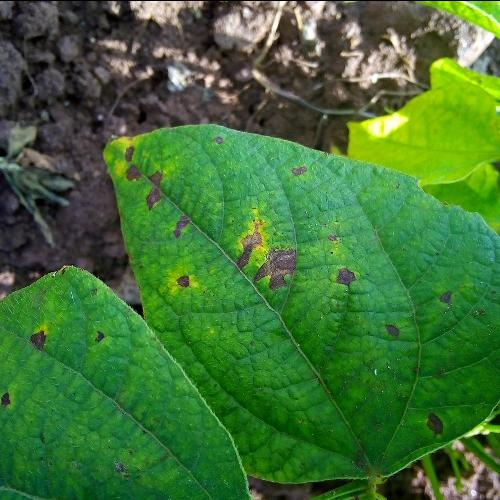embun tepung: (114, 132, 196, 300), (376, 266, 480, 382), (218, 201, 310, 311), (0, 314, 64, 418), (410, 403, 458, 446), (328, 246, 359, 310)
